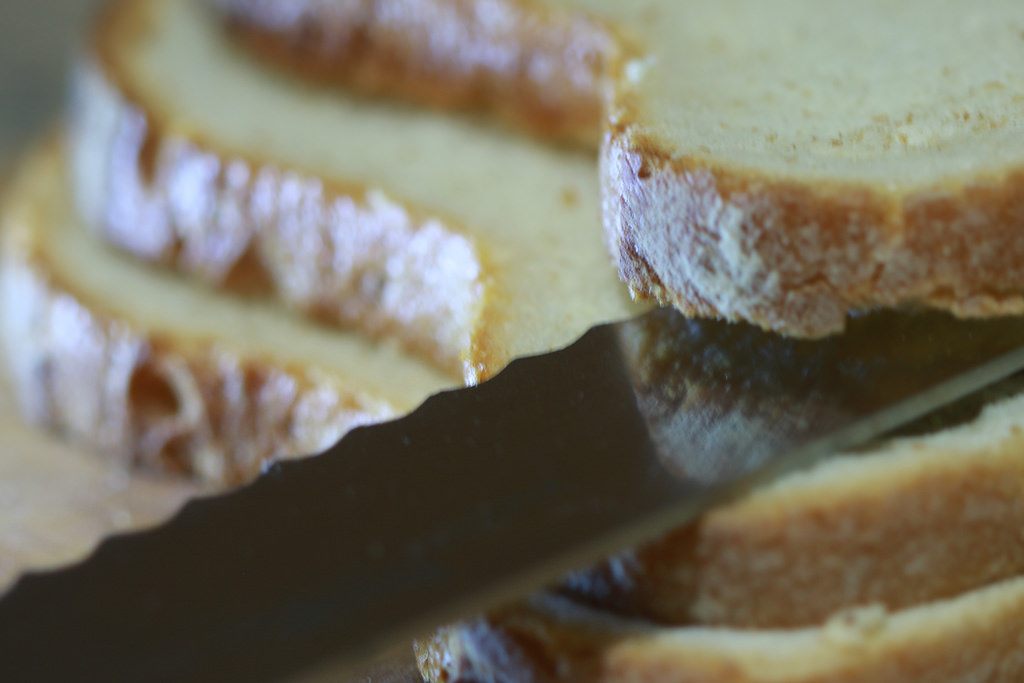slice of bread: (584, 17, 1024, 333)
